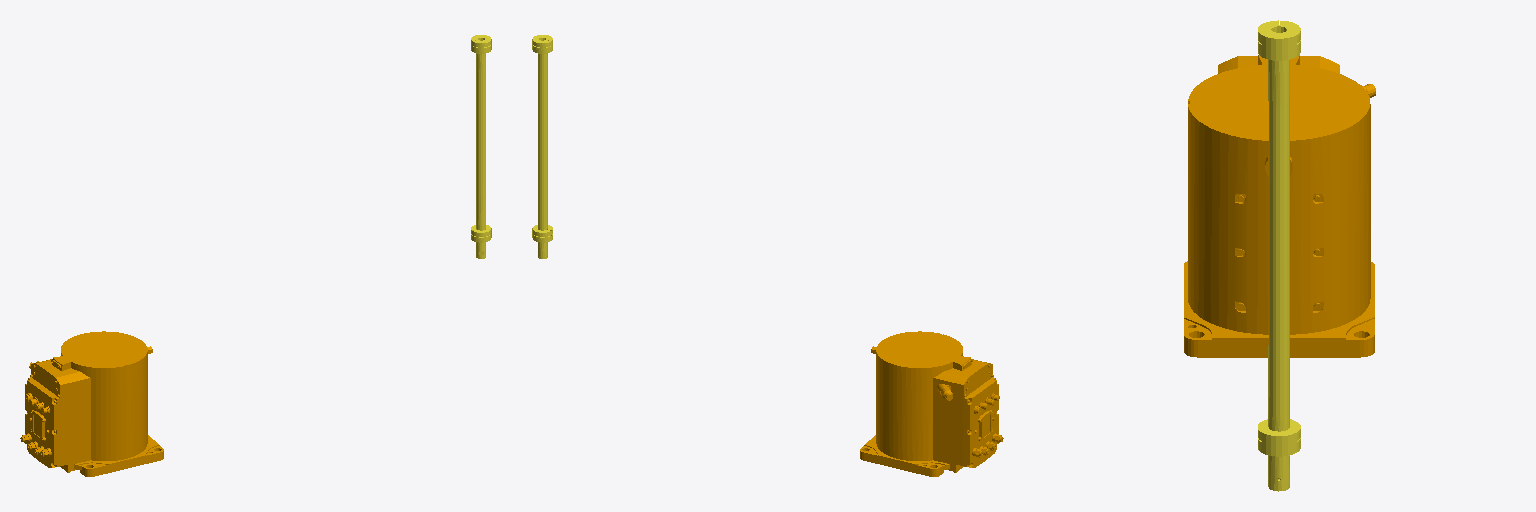
robot.urdf — IRB930_12kg-1050-300-STD_Omnicore_rev00_Assembly:
<?xml version="1.0" ?>
<robot name="IRB930_12kg-1050-300-STD_Omnicore_rev00_Assembly">

<link name="base_link">
  <inertial>
    <origin xyz="-0.030819417783150654 0.00015713182564654896 0.1350987209898039" rpy="0 0 0"/>
    <mass value="95.86686997070862"/>
    <inertia ixx="0.806742" iyy="1.10122" izz="0.797089" ixy="0.001161" iyz="-0.001241" ixz="-0.013201"/>
  </inertial>
  <visual>
    <origin xyz="0 0 0" rpy="0 0 0"/>
    <geometry>
      <mesh filename="package://IRB930_12kg-1050-300-STD_Omnicore_rev00_Assembly_description/meshes/base_link.stl" scale="0.001 0.001 0.001"/>
    </geometry>
    <material name="silver"/>
  </visual>
  <collision>
    <origin xyz="0 0 0" rpy="0 0 0"/>
    <geometry>
      <mesh filename="package://IRB930_12kg-1050-300-STD_Omnicore_rev00_Assembly_description/meshes/base_link.stl" scale="0.001 0.001 0.001"/>
    </geometry>
  </collision>
</link>

<link name="IRB930_12kg-1050-300-STD_Omnicore_rev00_LINK1_CAD_1">
  <inertial>
    <origin xyz="0.2327296030011868 1.4055626305918504e-05 0.06880622166244083" rpy="0 0 0"/>
    <mass value="104.004672609044"/>
    <inertia ixx="0.373789" iyy="4.510887" izz="4.687292" ixy="0.000122" iyz="0.000219" ixz="-0.141077"/>
  </inertial>
  <visual>
    <origin xyz="0.0 -0.0 -0.272" rpy="0 0 0"/>
    <geometry>
      <mesh filename="package://IRB930_12kg-1050-300-STD_Omnicore_rev00_Assembly_description/meshes/IRB930_12kg-1050-300-STD_Omnicore_rev00_LINK1_CAD_1.stl" scale="0.001 0.001 0.001"/>
    </geometry>
    <material name="silver"/>
  </visual>
  <collision>
    <origin xyz="0.0 -0.0 -0.272" rpy="0 0 0"/>
    <geometry>
      <mesh filename="package://IRB930_12kg-1050-300-STD_Omnicore_rev00_Assembly_description/meshes/IRB930_12kg-1050-300-STD_Omnicore_rev00_LINK1_CAD_1.stl" scale="0.001 0.001 0.001"/>
    </geometry>
  </collision>
</link>

<link name="IRB930_12kg-1050-300-STD_Omnicore_rev00_LINK2_CAD_1">
  <inertial>
    <origin xyz="0.19660142039319195 1.5190891070566326e-06 0.0902432804337342" rpy="0 0 0"/>
    <mass value="199.4580874558294"/>
    <inertia ixx="2.158171" iyy="7.467931" izz="6.160185" ixy="2.8e-05" iyz="4.2e-05" ixz="-0.021367"/>
  </inertial>
  <visual>
    <origin xyz="-0.56 -0.0 -0.3955" rpy="0 0 0"/>
    <geometry>
      <mesh filename="package://IRB930_12kg-1050-300-STD_Omnicore_rev00_Assembly_description/meshes/IRB930_12kg-1050-300-STD_Omnicore_rev00_LINK2_CAD_1.stl" scale="0.001 0.001 0.001"/>
    </geometry>
    <material name="silver"/>
  </visual>
  <collision>
    <origin xyz="-0.56 -0.0 -0.3955" rpy="0 0 0"/>
    <geometry>
      <mesh filename="package://IRB930_12kg-1050-300-STD_Omnicore_rev00_Assembly_description/meshes/IRB930_12kg-1050-300-STD_Omnicore_rev00_LINK2_CAD_1.stl" scale="0.001 0.001 0.001"/>
    </geometry>
  </collision>
</link>

<link name="IRB930_12kg-1050-300-STD_Omnicore_rev00_LINK3_CAD_1">
  <inertial>
    <origin xyz="0.00017131478414600387 8.969678527760666e-06 0.014896846408127051" rpy="0 0 0"/>
    <mass value="1.6450553674720612"/>
    <inertia ixx="0.066704" iyy="0.066703" izz="0.000352" ixy="0.0" iyz="1e-06" ixz="-8e-06"/>
  </inertial>
  <visual>
    <origin xyz="-1.05 -0.0 -0.5642" rpy="0 0 0"/>
    <geometry>
      <mesh filename="package://IRB930_12kg-1050-300-STD_Omnicore_rev00_Assembly_description/meshes/IRB930_12kg-1050-300-STD_Omnicore_rev00_LINK3_CAD_1.stl" scale="0.001 0.001 0.001"/>
    </geometry>
    <material name="silver"/>
  </visual>
  <collision>
    <origin xyz="-1.05 -0.0 -0.5642" rpy="0 0 0"/>
    <geometry>
      <mesh filename="package://IRB930_12kg-1050-300-STD_Omnicore_rev00_Assembly_description/meshes/IRB930_12kg-1050-300-STD_Omnicore_rev00_LINK3_CAD_1.stl" scale="0.001 0.001 0.001"/>
    </geometry>
  </collision>
</link>

<joint name="Revolute 1" type="continuous">
  <origin xyz="0.0 0.0 0.272" rpy="0 0 0"/>
  <parent link="base_link"/>
  <child link="IRB930_12kg-1050-300-STD_Omnicore_rev00_LINK1_CAD_1"/>
  <axis xyz="0.0 0.0 1.0"/>
</joint>

<joint name="Revolute 2" type="continuous">
  <origin xyz="0.56 0.0 0.1235" rpy="0 0 0"/>
  <parent link="IRB930_12kg-1050-300-STD_Omnicore_rev00_LINK1_CAD_1"/>
  <child link="IRB930_12kg-1050-300-STD_Omnicore_rev00_LINK2_CAD_1"/>
  <axis xyz="0.0 0.0 1.0"/>
</joint>

<joint name="Slider 3" type="prismatic">
  <origin xyz="0.49 0.0 0.1687" rpy="0 0 0"/>
  <parent link="IRB930_12kg-1050-300-STD_Omnicore_rev00_LINK2_CAD_1"/>
  <child link="IRB930_12kg-1050-300-STD_Omnicore_rev00_LINK3_CAD_1"/>
  <axis xyz="-0.0 0.0 1.0"/>
  <limit upper="0.0" lower="-0.2" effort="100" velocity="100"/>
</joint>

</robot>

--- Facts derived from the render (not from the file) ---
3 views of the same robot in one strip: view 1: azimuth 30°, elevation 25°; view 2: azimuth 150°, elevation 25°; view 3: azimuth 270°, elevation 25° (orthographic).
Robot: IRB930_12kg-1050-300-STD_Omnicore_rev00_Assembly — 4 links, 3 joints (2 continuous, 1 prismatic); root link base_link; default pose: all joints at 0.
Links seen in each view (by area): view 1: base_link, IRB930_12kg-1050-300-STD_Omnicore_rev00_LINK3_CAD_1; view 2: base_link, IRB930_12kg-1050-300-STD_Omnicore_rev00_LINK3_CAD_1; view 3: base_link, IRB930_12kg-1050-300-STD_Omnicore_rev00_LINK3_CAD_1.
Boxes of the visible links, x1,y1,x2,y2 form: base_link: [20, 331, 163, 476]; IRB930_12kg-1050-300-STD_Omnicore_rev00_LINK3_CAD_1: [471, 35, 491, 258]; base_link: [860, 331, 1003, 476]; IRB930_12kg-1050-300-STD_Omnicore_rev00_LINK3_CAD_1: [532, 35, 552, 258]; base_link: [1184, 55, 1375, 357]; IRB930_12kg-1050-300-STD_Omnicore_rev00_LINK3_CAD_1: [1258, 20, 1300, 491].
Bounding box of the posed robot: 1.28 × 0.2218 × 0.8542 m (x, y, z).
Meshes: 4 distinct files referenced, 2 mesh visuals loaded (2 binary STL); not drawn: 2 (reference not matched to a file when rendering).